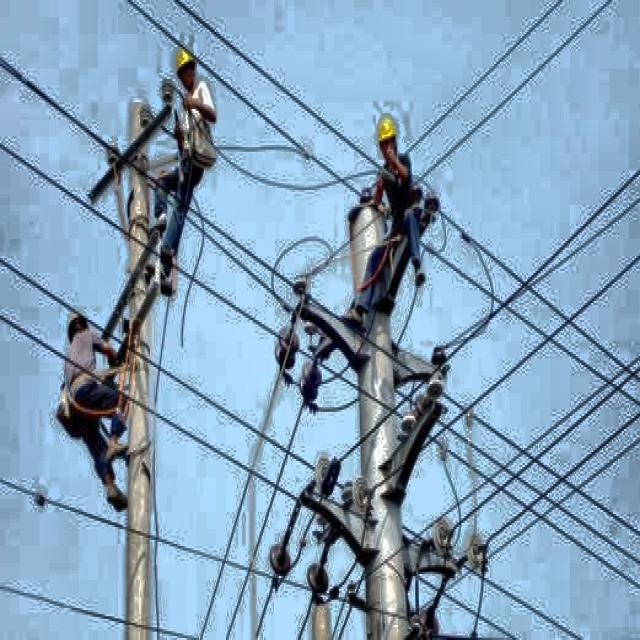helmet: (172, 38, 197, 94), (376, 111, 400, 168)
